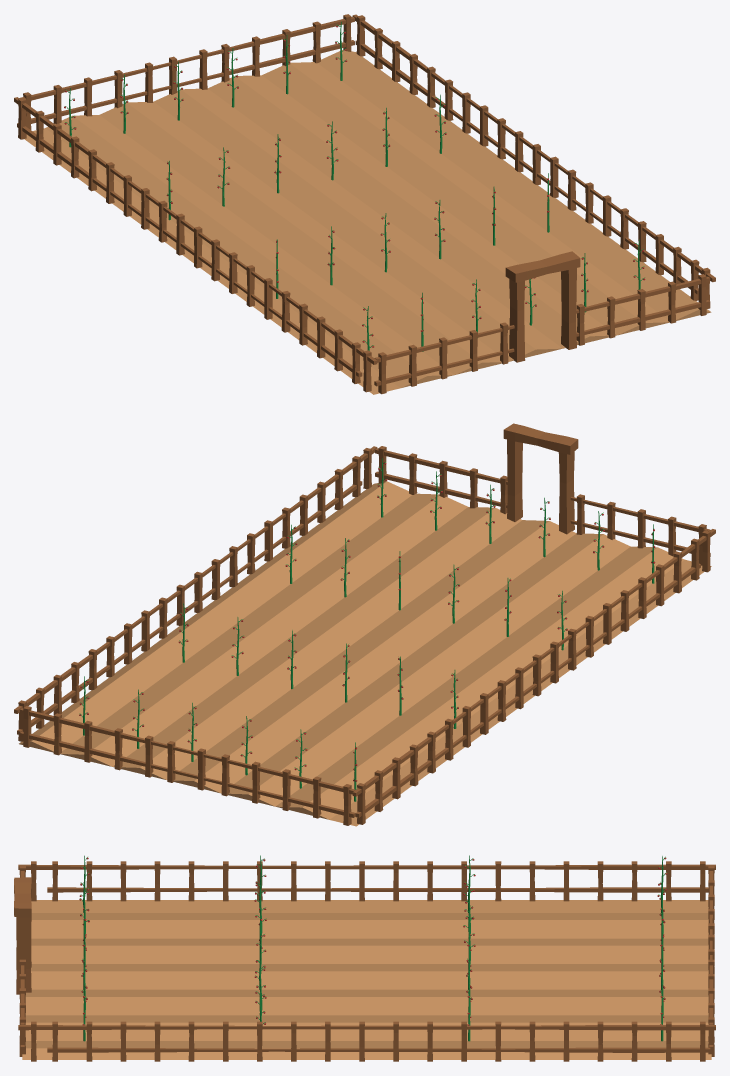
File: Tomatoes_Field.fbx
3 views of the same model, one above another, from view 1: azimuth 30°, elevation 25°; view 2: azimuth 150°, elevation 25°; view 3: azimuth 270°, elevation 25° (orthographic). The views are drawn at different scales.
Visible parts, largest first — view 1: Tomatoes_Field; view 2: Tomatoes_Field; view 3: Tomatoes_Field.
Part boxes in pixels (left/top/right/bottom): Tomatoes_Field: left=14, top=14, right=715, bottom=394; Tomatoes_Field: left=14, top=423, right=715, bottom=826; Tomatoes_Field: left=14, top=855, right=715, bottom=1061.
Bounding box in the file's own units: 922 × 231 × 1679.
